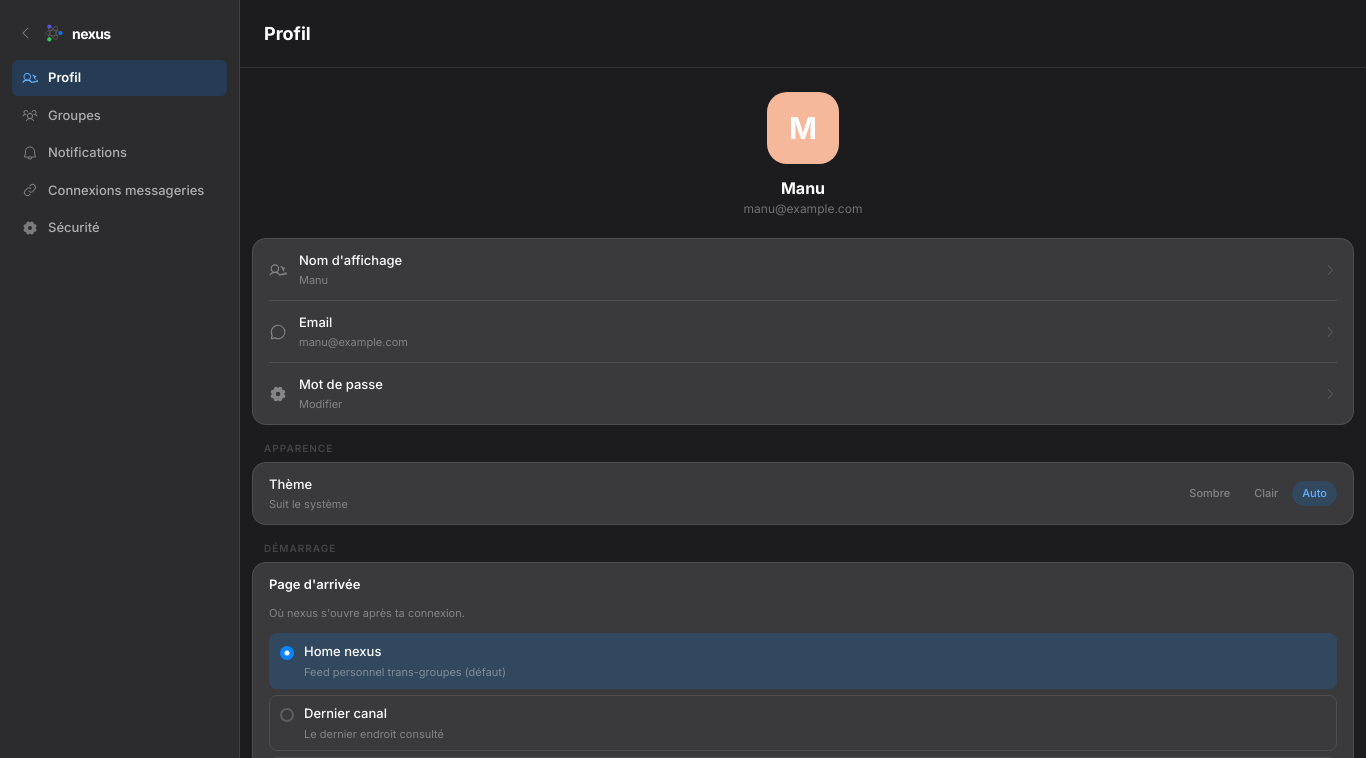
Test case: SettingsScreen › section "À propos" — build web (MAN-133) › affiche aussi le texte de repli quand VITE_GIT_SHA est une chaîne vide (mauvaise config CI)
Click the button "Sécurité".
click(120, 228)  # box [12,210,227,246]
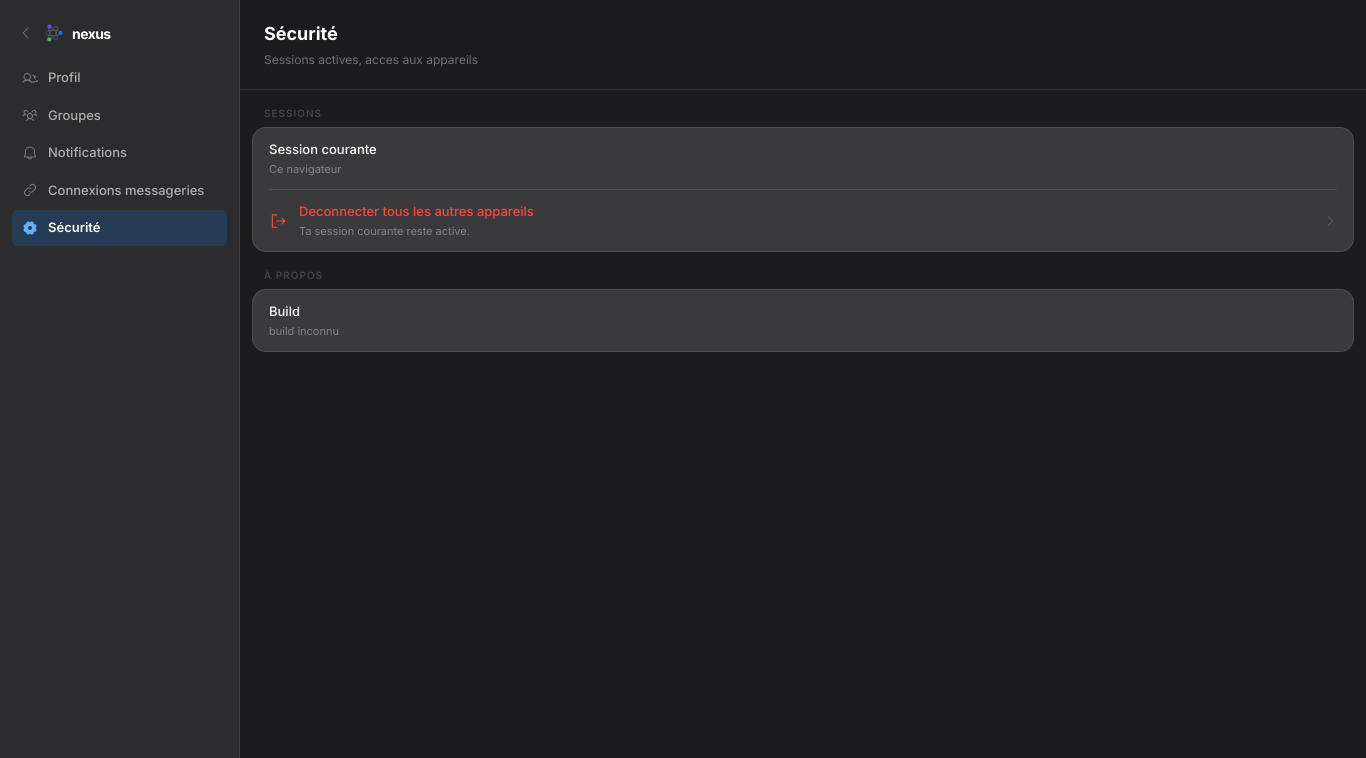
Now the text "build inconnu" is shown, box [269,324,339,338]
